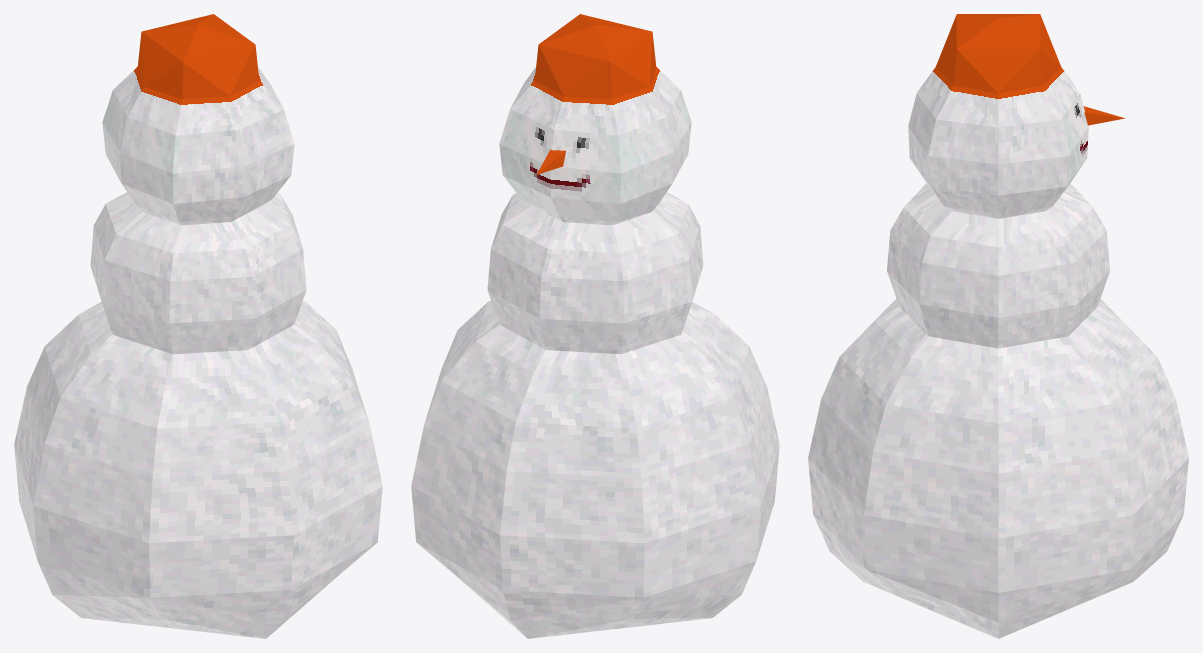
File: ps2_save-icons_alpineracer3.glb
3 renders of one model, left to right at view 1: azimuth 30°, elevation 25°; view 2: azimuth 150°, elevation 25°; view 3: azimuth 270°, elevation 25°, orthographic.
Visible parts, largest first — view 1: view.ico; view 2: view.ico; view 3: view.ico.
Part boxes in pixels (left/top/right/bottom): view.ico: left=14, top=14, right=382, bottom=638; view.ico: left=411, top=14, right=779, bottom=638; view.ico: left=808, top=14, right=1188, bottom=638.
Size of the model in its own units: 2.16 by 3.53 by 2.16.
Materials: 1 (1 with a texture image).
